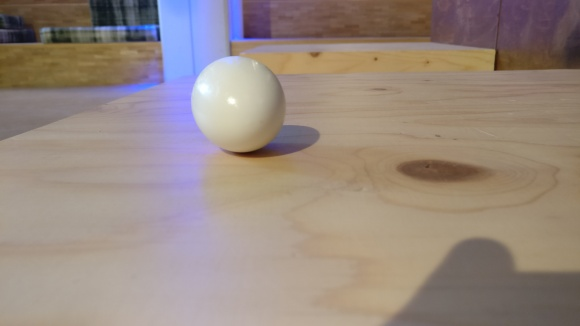egg: (191, 56, 289, 154)
